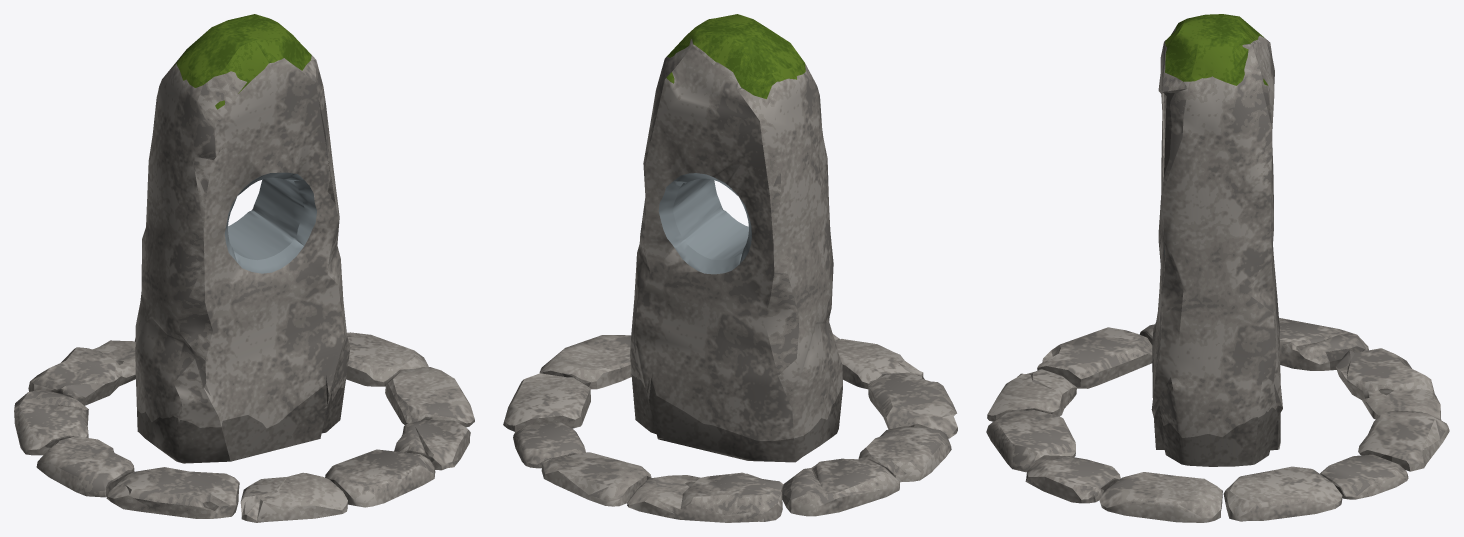
The model's file is standing_stone.glb.
3 views of the same model, side by side, from view 1: azimuth 30°, elevation 25°; view 2: azimuth 150°, elevation 25°; view 3: azimuth 270°, elevation 25° (orthographic).
Parts seen in each view (by area): view 1: StandingStone; view 2: StandingStone; view 3: StandingStone.
Part boxes in pixels (left/top/right/bottom): StandingStone: left=14, top=14, right=474, bottom=522; StandingStone: left=503, top=14, right=957, bottom=522; StandingStone: left=986, top=14, right=1449, bottom=522.
Bounding box in the file's own units: 1.62 × 1.57 × 1.62.
4 materials, 3 textured.
